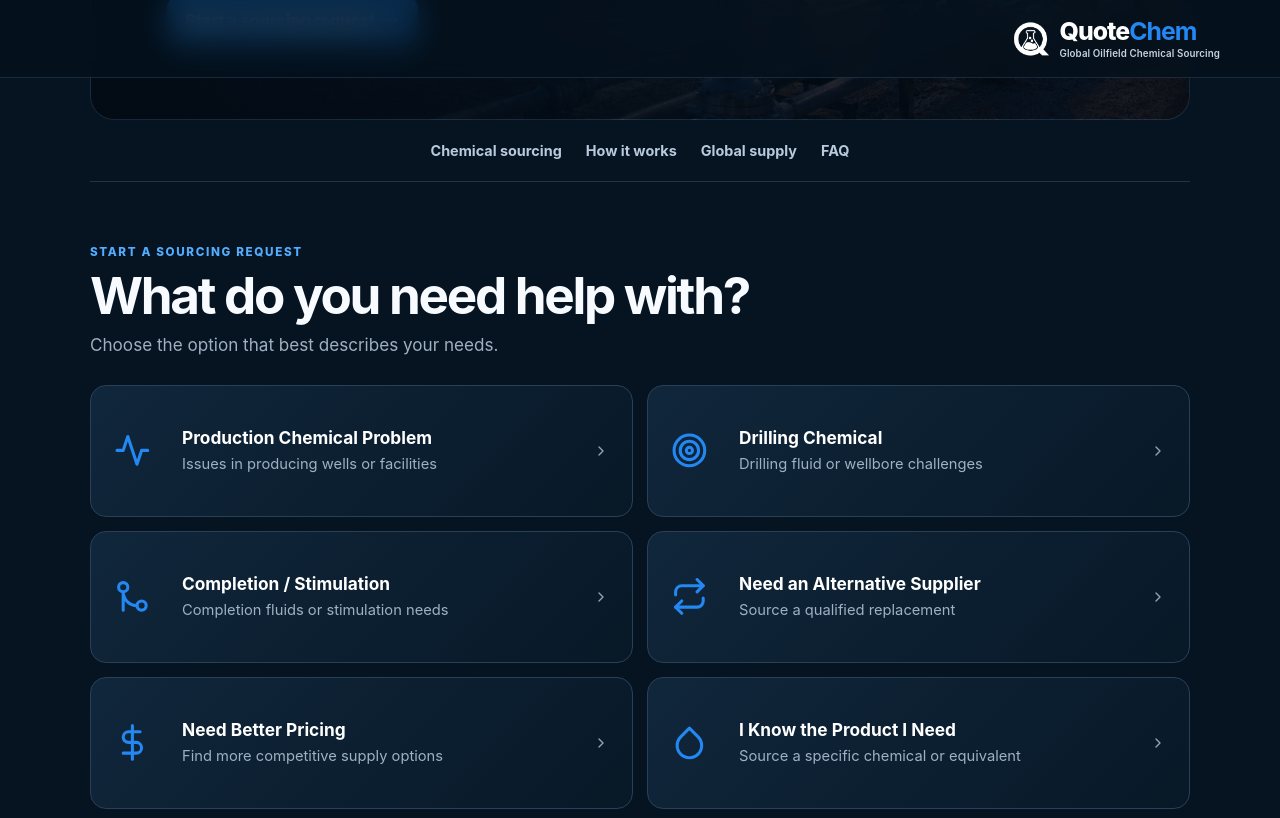
Test: QuoteChem category flow › the logo clears the flow and returns to the first step
(page scrolled)
Click the button "Drilling Chemical Drilling fluid or wellbore challenges" at {"x": 689, "y": 451}, box [647,385,1190,517]
(page scrolled)
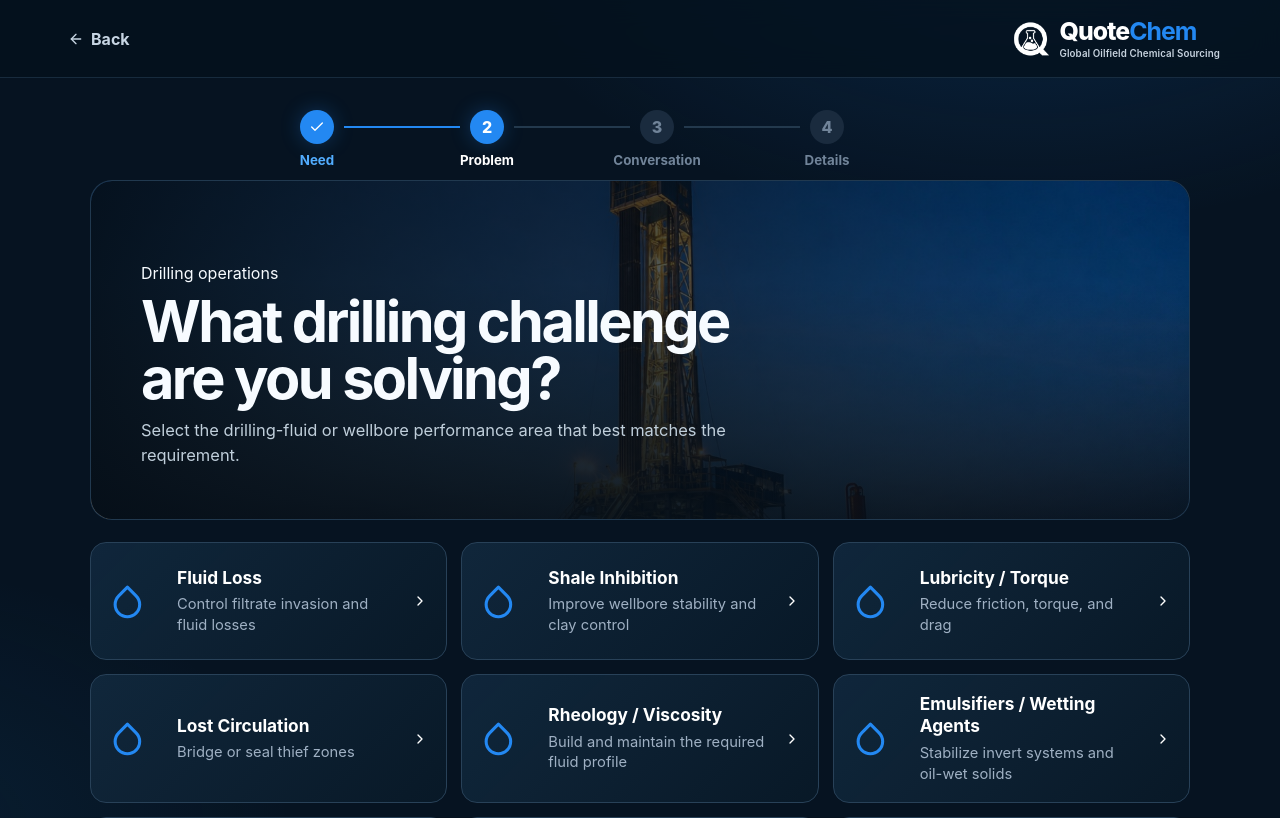
Click the button with aria-label "Return to QuoteChem home" at {"x": 1116, "y": 38}, box [1012,19,1220,58]
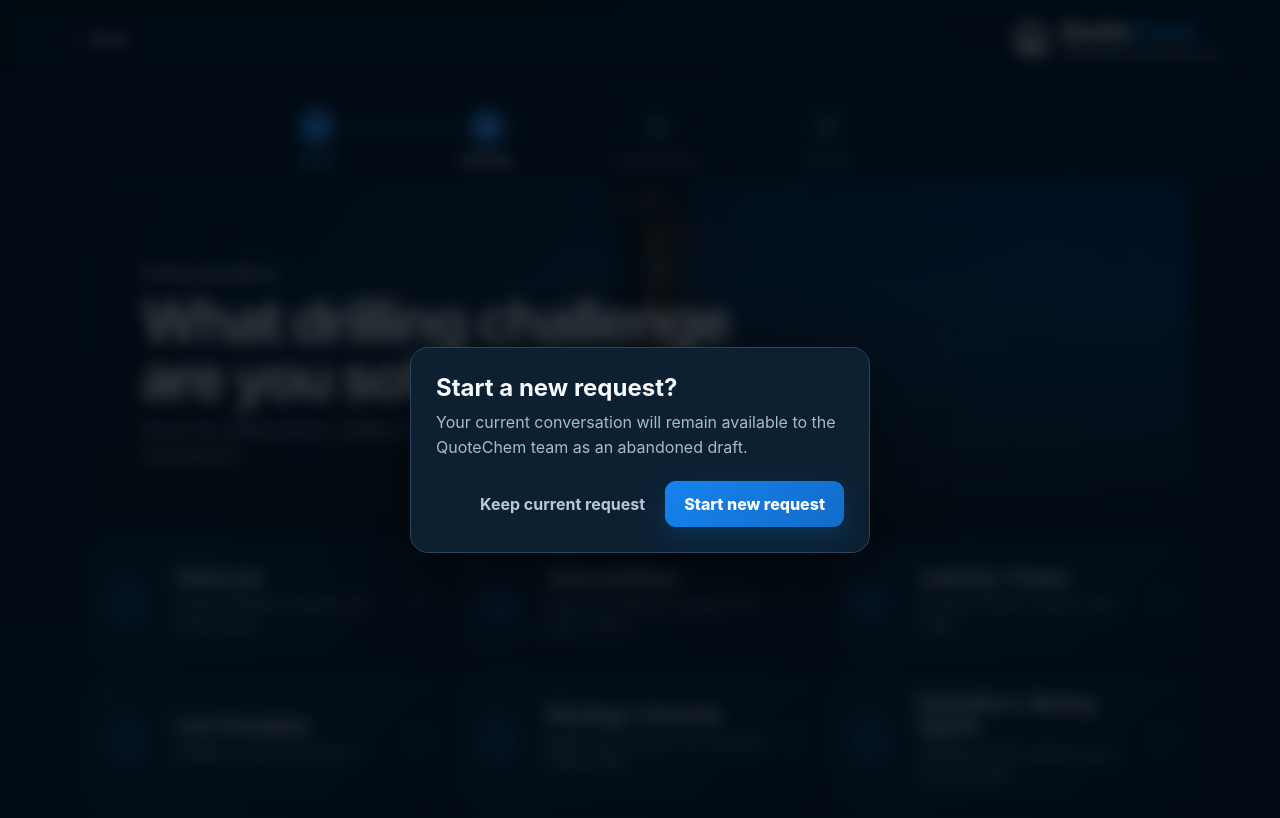
Expected: the dialog "Start a new request" is shown, [410,347,870,553]
Click the button "Start new request" at {"x": 755, "y": 504}, box [665,481,844,527]
(page scrolled)
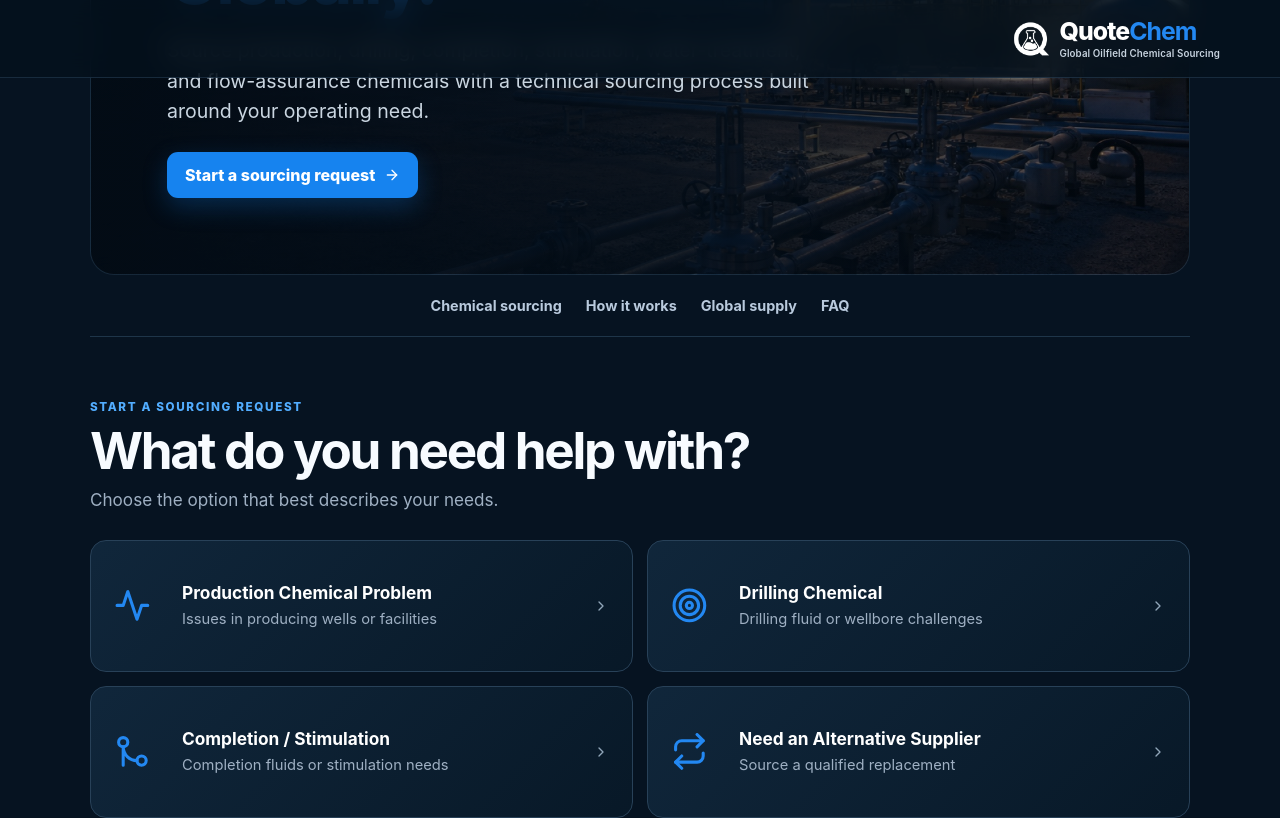
Expected: the heading "What do you need help with?" is shown, [90,424,850,477]
